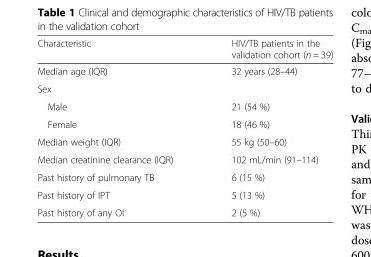table: (36, 37, 332, 217)
table column: (36, 37, 201, 217), (201, 37, 332, 217)
table column header: (36, 37, 332, 62)
table projected row header: (36, 79, 332, 97)
table row: (36, 37, 332, 62), (36, 79, 332, 97), (36, 114, 332, 132), (36, 132, 332, 150), (36, 150, 332, 168), (36, 185, 332, 203), (36, 62, 332, 79), (36, 97, 332, 114), (36, 168, 332, 185), (36, 203, 332, 217)
